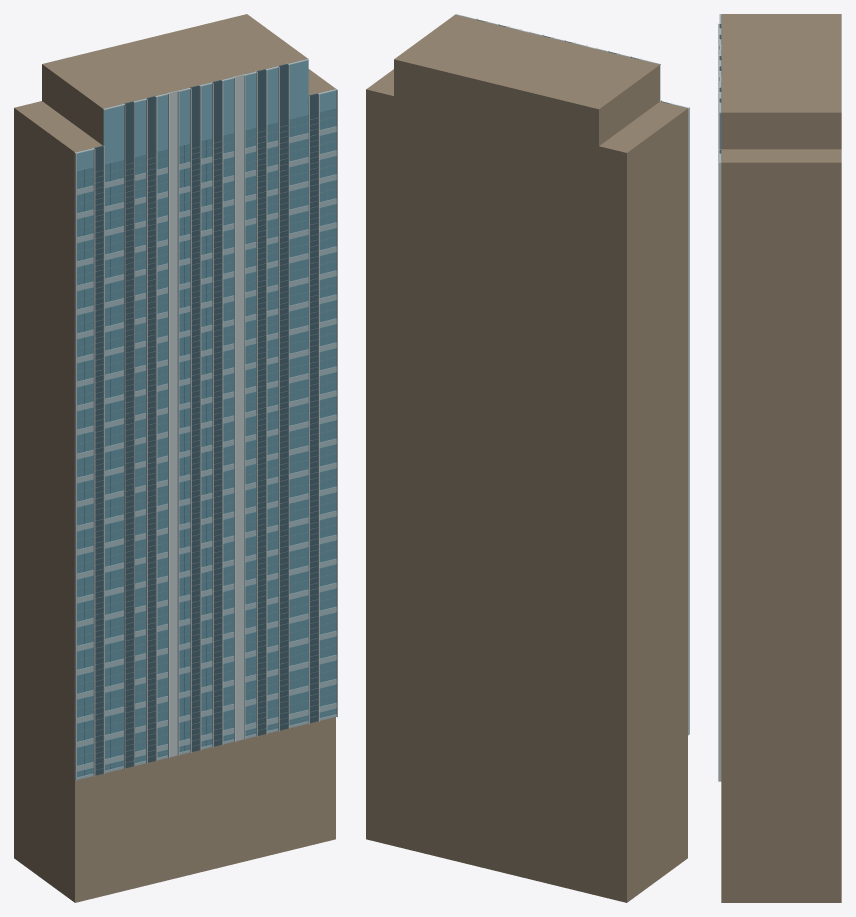
Rendered from detail.glb.
3 views of the same model, side by side, from view 1: azimuth 30°, elevation 25°; view 2: azimuth 150°, elevation 25°; view 3: azimuth 270°, elevation 25° (orthographic).
Visible parts, largest first — view 1: Changjiang_HOLD_neutral_unknown_geometry, Changjiang_APPROX_blue_glass, Changjiang_OBSERVED_eight_darker_vertical_bands, Changjiang_OBSERVED_light_silver_vertical_edges, Changjiang_OBSERVED_pale_bluegray_spandrels, Changjiang_OBSERVED_fine_mullions_not_coarse_bands, Changjiang_OBSERVED_two_broad_silver_solid_bands, Changjiang_APPROX_crown_blue_surface; view 2: Changjiang_HOLD_neutral_unknown_geometry, Changjiang_OBSERVED_light_silver_vertical_edges; view 3: Changjiang_HOLD_neutral_unknown_geometry, Changjiang_OBSERVED_light_silver_vertical_edges.
Boxes of the visible parts, left/top/right/bottom form: Changjiang_HOLD_neutral_unknown_geometry: left=14, top=14, right=335, bottom=902; Changjiang_APPROX_blue_glass: left=77, top=108, right=336, bottom=777; Changjiang_OBSERVED_eight_darker_vertical_bands: left=94, top=64, right=318, bottom=775; Changjiang_OBSERVED_light_silver_vertical_edges: left=74, top=59, right=337, bottom=780; Changjiang_OBSERVED_pale_bluegray_spandrels: left=77, top=126, right=336, bottom=779; Changjiang_OBSERVED_fine_mullions_not_coarse_bands: left=77, top=110, right=336, bottom=775; Changjiang_OBSERVED_two_broad_silver_solid_bands: left=168, top=74, right=243, bottom=757; Changjiang_APPROX_crown_blue_surface: left=77, top=59, right=336, bottom=170; Changjiang_HOLD_neutral_unknown_geometry: left=366, top=14, right=687, bottom=902; Changjiang_OBSERVED_light_silver_vertical_edges: left=455, top=14, right=689, bottom=735; Changjiang_HOLD_neutral_unknown_geometry: left=721, top=14, right=841, bottom=902; Changjiang_OBSERVED_light_silver_vertical_edges: left=718, top=14, right=721, bottom=781.
Bounding box in the file's own units: 44.51 × 128 × 18.46.
